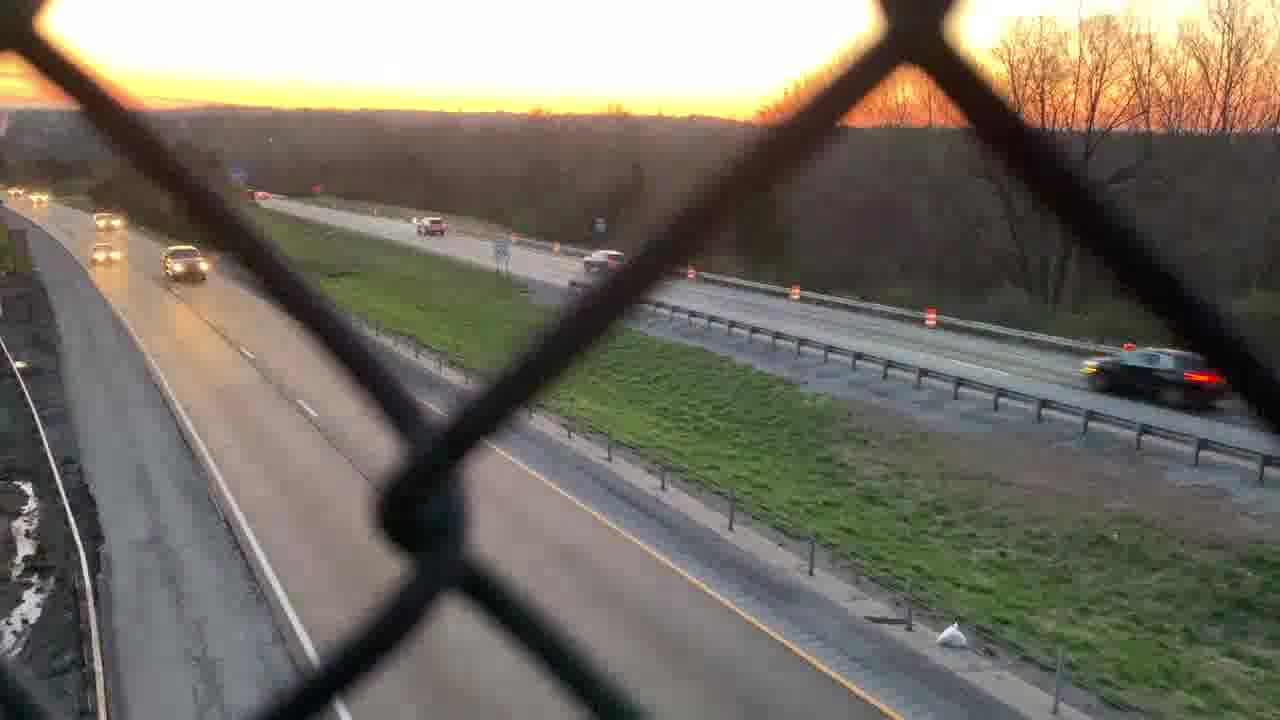largeCar: (1081, 332, 1224, 407), (581, 243, 627, 272), (416, 213, 448, 235)
lightTruck: (155, 240, 209, 289)
smallCar: (91, 244, 122, 266)
vehicle: (92, 211, 125, 234), (25, 189, 51, 206), (6, 184, 25, 201)
